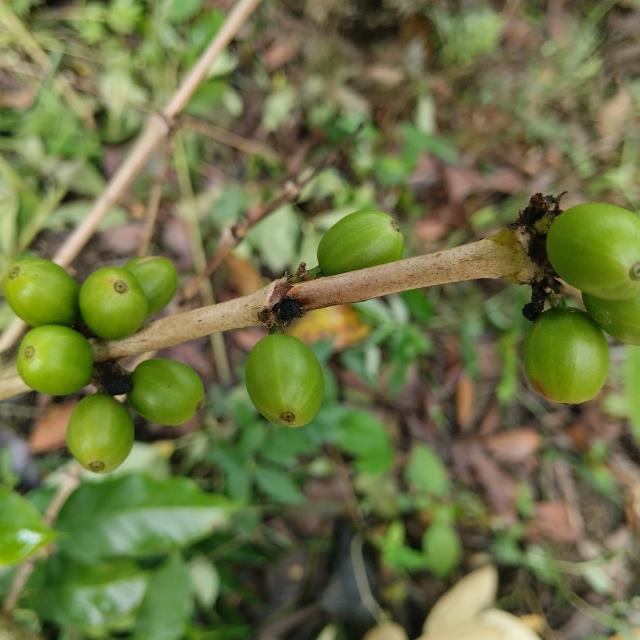green: (548, 202, 640, 300), (525, 305, 611, 404), (245, 333, 324, 428), (317, 209, 404, 276), (16, 325, 93, 396), (66, 393, 134, 473), (2, 258, 79, 327), (127, 359, 204, 426), (78, 267, 148, 340), (123, 256, 177, 317), (583, 292, 640, 346)
